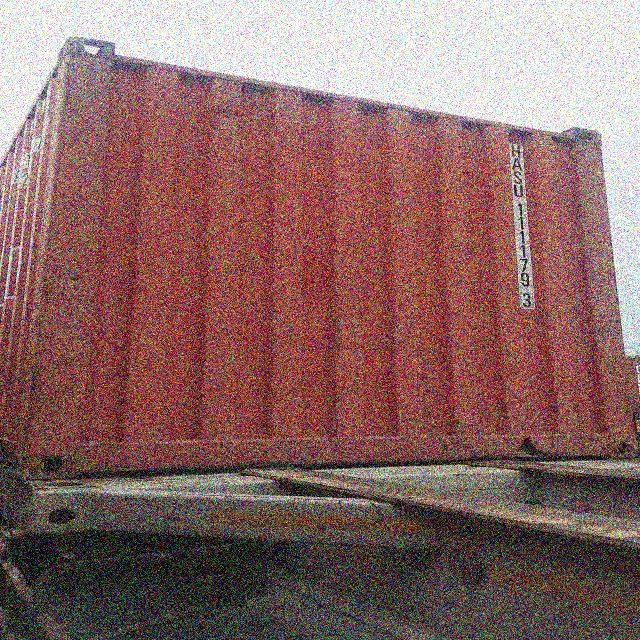Hole: (515, 439, 566, 460)
